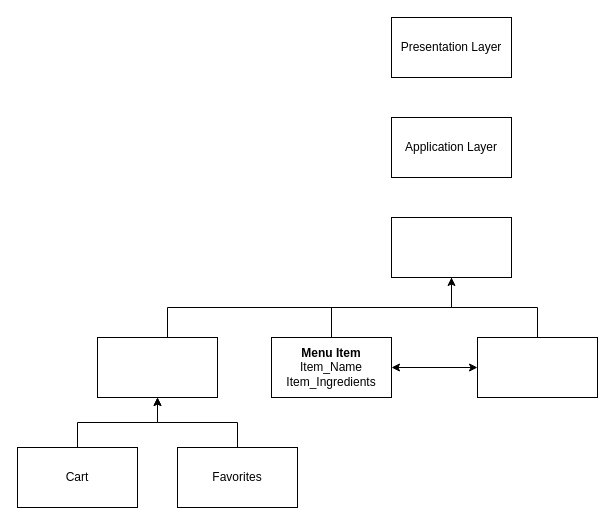
The diagram is 615 pixels wide and 525 high, and some of its shapes have lost their labels. The centre of each missing label's shape, as x and y in pixels:
"Data Base Layer" goes at point (451, 247).
"Ingredients Ingredient_Name Ingredient_Allergen" goes at point (537, 367).
"User Data email_adress phone_number password" goes at point (157, 367).
